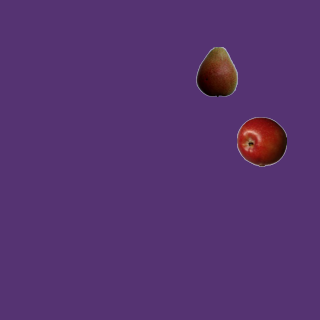Apple Braeburn: (236, 116, 286, 166)
Pear Forelle: (191, 46, 241, 96)
